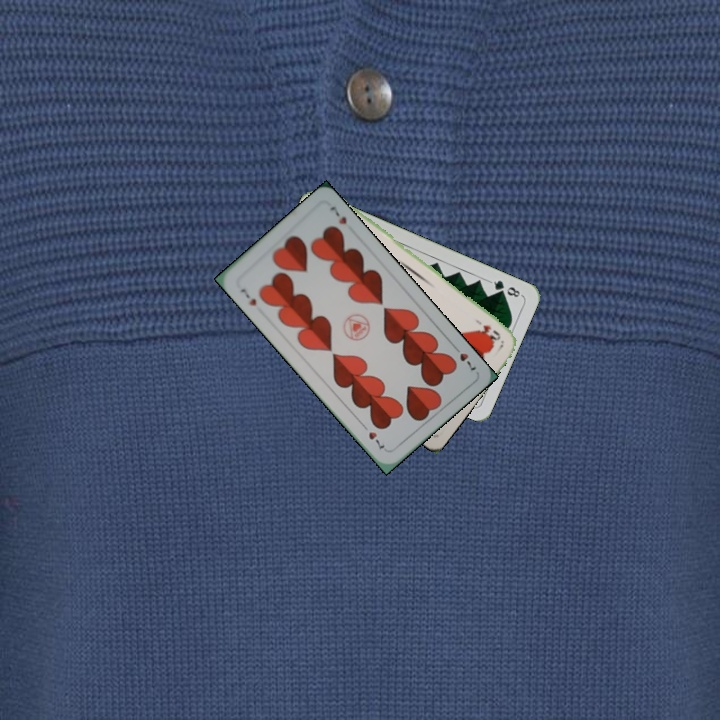G8: (486, 276, 524, 300)
H7: (448, 341, 479, 373), (236, 284, 259, 308)
HO: (471, 315, 503, 343)
